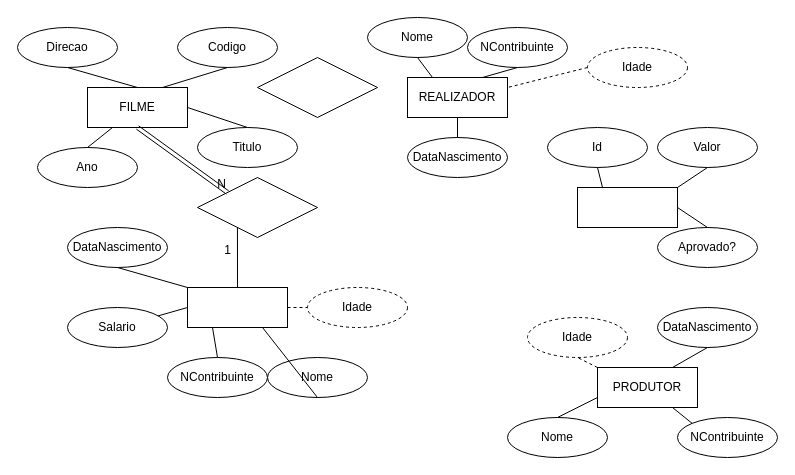
The diagram is 795 pixels wide and 475 high, and some of its shapes have lost their labels. Here are the shapes that lost their labels. From the top down, the centre of each, then its label:
the point at 317,87: REALIZA
the point at 257,207: ENTRA_EM
the point at 627,207: ORCAMENTO
the point at 237,307: ATOR
